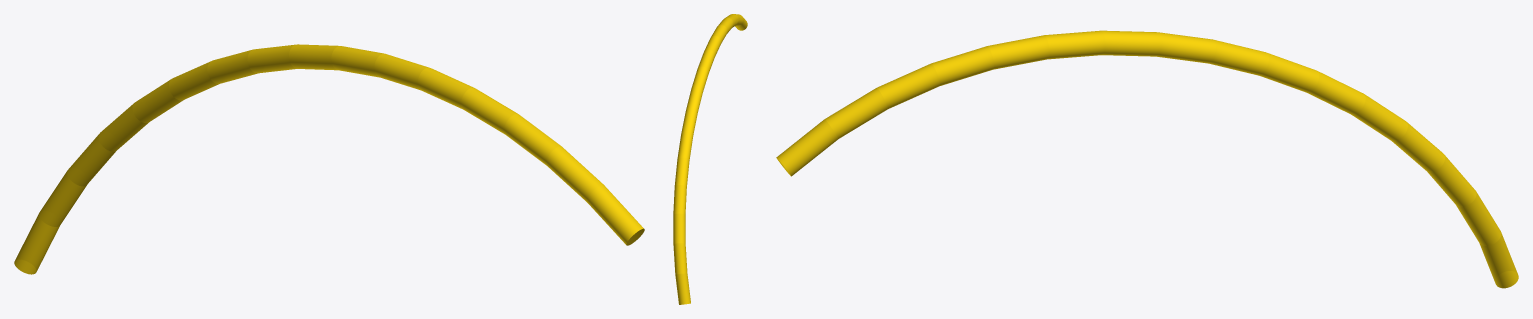
The model's file is Event_420107950_track_46.fbx.
The picture shows the model from 3 angles, left to right: view 1: azimuth 30°, elevation 25°; view 2: azimuth 150°, elevation 25°; view 3: azimuth 270°, elevation 25°; orthographic projection. The views are drawn at different scales.
Parts seen in each view (by area): view 1: Model; view 2: Model; view 3: Model.
Boxes of the visible parts, left/top/right/bottom form: Model: left=14, top=44, right=644, bottom=274; Model: left=673, top=14, right=747, bottom=304; Model: left=776, top=30, right=1518, bottom=288.
Size of the model in its own units: 0.5067 by 0.5961 by 1.21.
